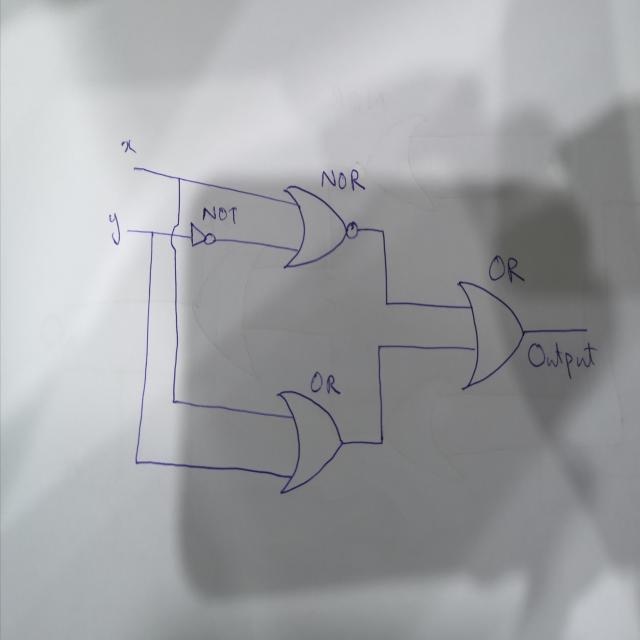crossover: (169, 220, 180, 251)
junction: (377, 222, 388, 239), (376, 432, 386, 449), (382, 297, 391, 309), (169, 395, 178, 407), (148, 227, 156, 239), (175, 172, 183, 182), (133, 456, 140, 467), (376, 341, 382, 352)
terminal: (123, 226, 133, 237), (131, 162, 138, 172), (583, 324, 589, 334)
text: (526, 336, 598, 382), (319, 166, 367, 194), (487, 253, 525, 287), (200, 203, 239, 228), (308, 371, 340, 396), (108, 211, 121, 245), (120, 137, 136, 154)
